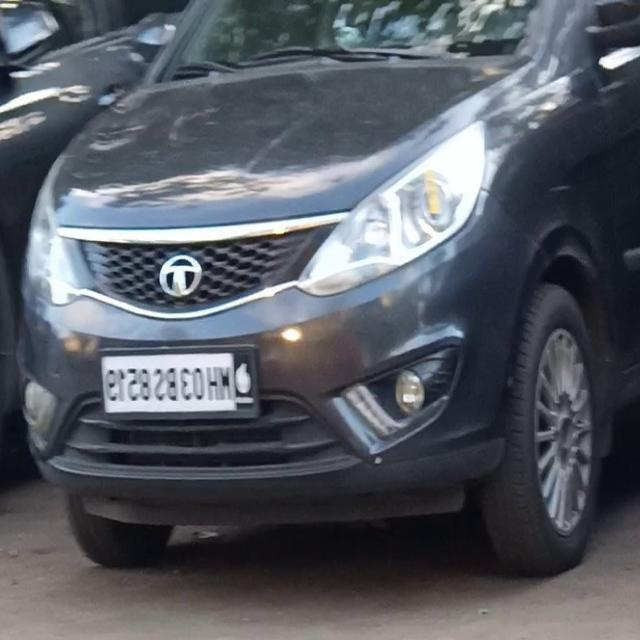license_plate: (97, 339, 261, 424)
